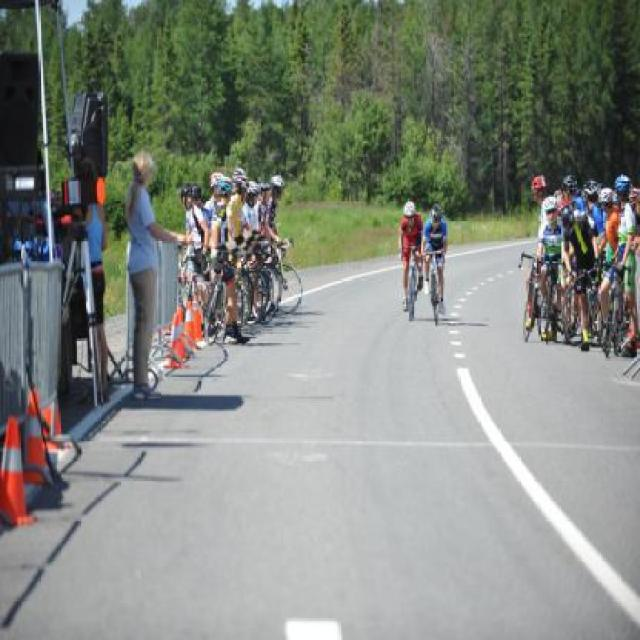Person: (530, 171, 638, 360), (180, 168, 286, 346), (123, 147, 192, 398), (74, 160, 108, 403), (420, 200, 448, 314), (397, 201, 425, 313)
